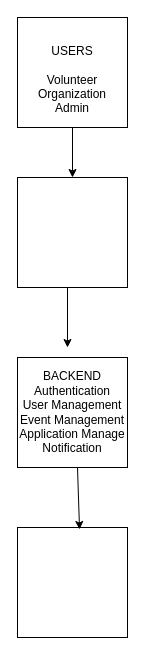
Image size: 145x655. Some labels were removed from this diagram. Each missing label, with the centre of its shape:
"DATABASE Volunteer Organization Admin Event Application" goes at [72,582].
"FRONTEND Login/Register View Events Apply for Event Profile Admin Dashboard" goes at [72,232].
